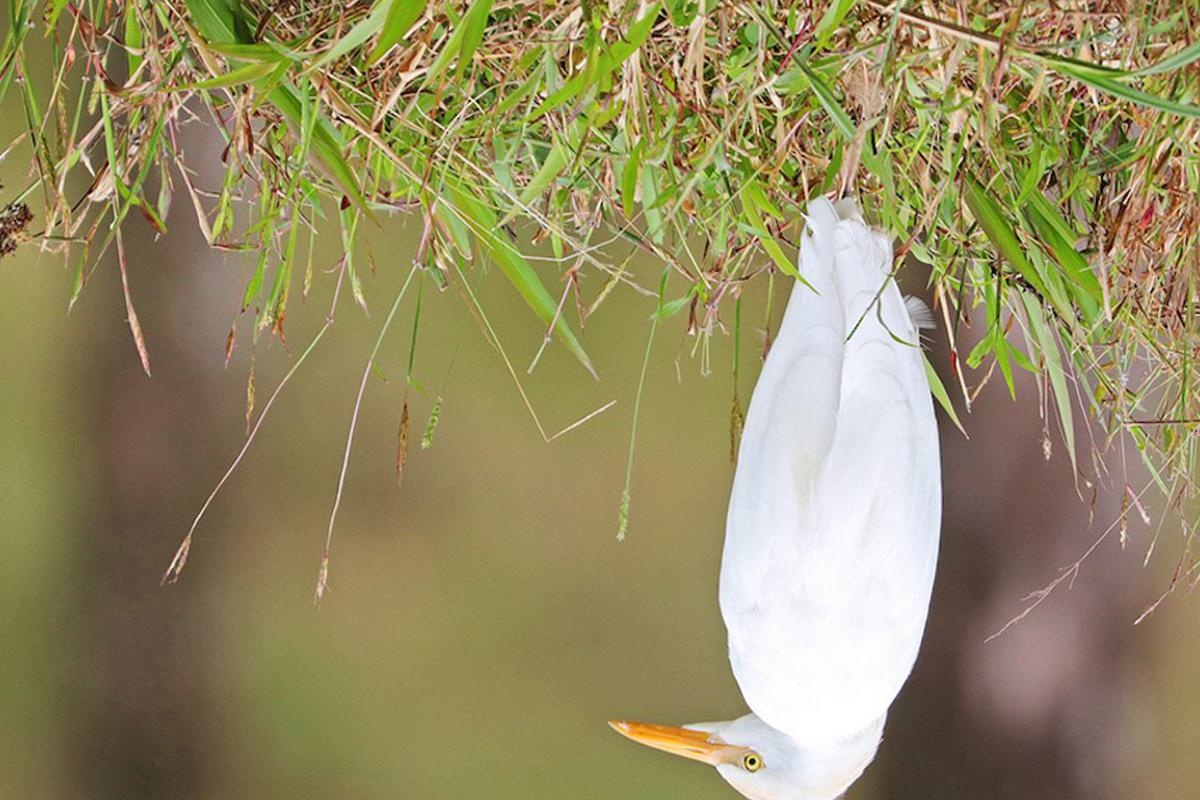egret: (603, 126, 955, 796)
